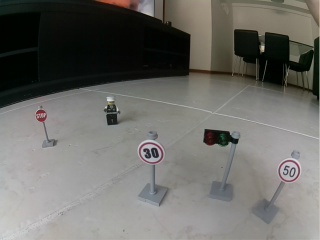Green Traffic Light: (202, 128, 240, 202)
Person: (103, 96, 121, 126)
Speed Limit 30: (138, 140, 164, 165)
Speed Limit 50: (276, 158, 301, 184)
Stop Sign: (35, 109, 48, 122)
